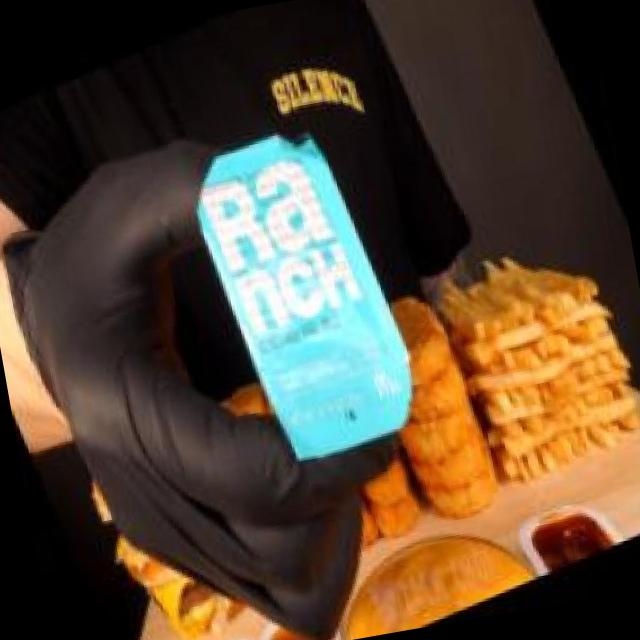Hashbrown: (338, 268, 526, 548)
burger: (62, 410, 268, 640)
french fries: (412, 202, 640, 513)
nugget: (306, 424, 444, 570)
